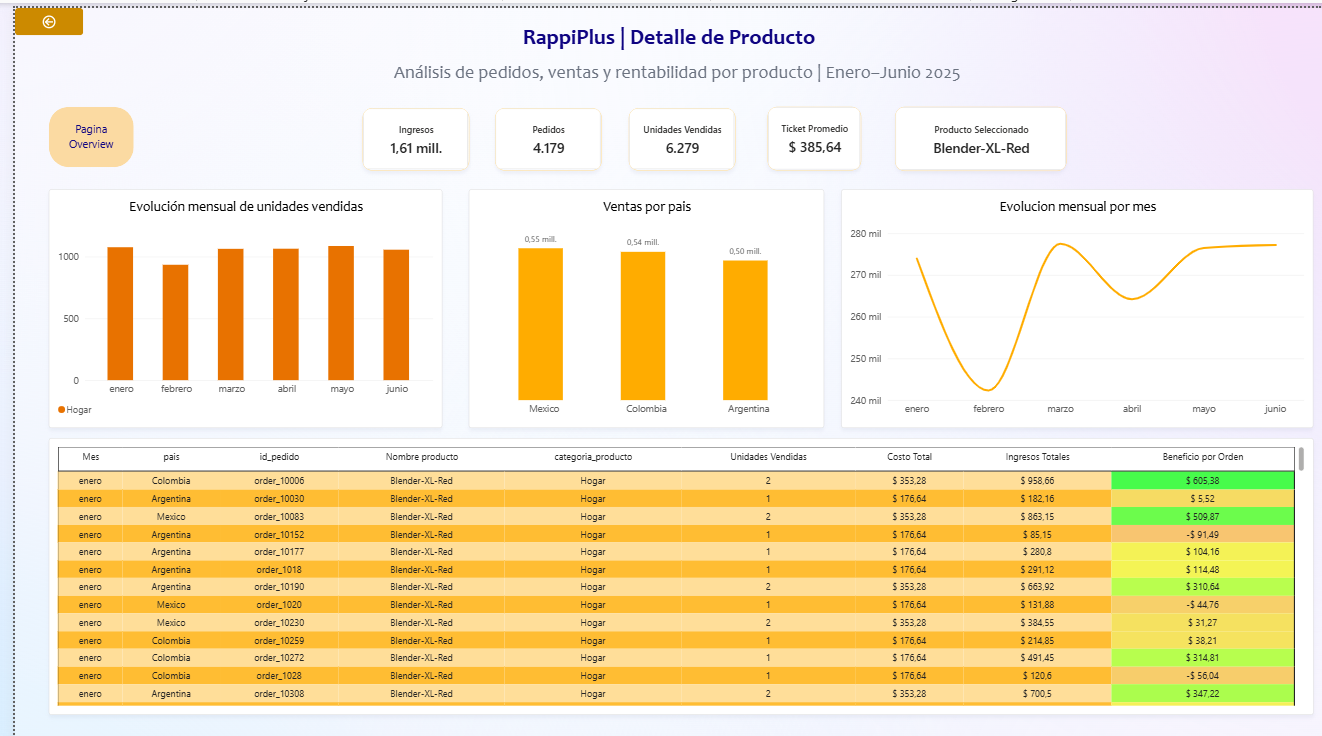

The dashboard page shown, as its layout file describes it:
{"tool":"powerbi","page":{"name":"Producto","canvas":[1920,1080],"ordinal":2},"visuals":[{"type":"textbox","box":[731.2,21.4,455.4,55.6],"z":0},{"type":"textbox","box":[555.9,77,947.2,53.5],"z":1000},{"type":"actionButton","box":[0,0,100,40],"z":2000},{"type":"cardVisual","fields":{"Data":["orders_clean.Ingresos Totales"]},"box":[509.9,146.7,156.7,91.9],"z":3000},{"type":"cardVisual","fields":{"Data":["orders_clean.Pedidos totales"]},"box":[704.4,146.7,156.7,91.9],"z":4000},{"type":"cardVisual","fields":{"Data":["orders_clean.Unidades Vendidas"]},"box":[900.6,146.7,156.7,91.9],"z":5000},{"type":"cardVisual","fields":{"Data":["orders_clean.Ticket Promedio"]},"box":[1104.2,144.9,137.6,93.5],"z":6000},{"type":"clusteredColumnChart","title":"Evolución mensual de unidades vendidas","fields":{"Category":["DimFecha.Date.Variación.Jerarquía de fechas.Mes"],"Series":["orders_clean.categoria_producto"],"Y":["orders_clean.Unidades Vendidas"]},"box":[49.2,265.1,577.3,350.6],"z":7000},{"type":"tableEx","fields":{"Values":["DimFecha.Date.Variación.Jerarquía de fechas.Mes","orders_clean.pais","orders_clean.id_pedido","orders_clean.nombre_producto","orders_clean.categoria_producto","orders_clean.Unidades Vendidas","orders_clean.Costo Total","orders_clean.Ingresos Totales","orders_clean.Beneficio por Orden"]},"box":[49.2,630.7,1855.9,406.2],"z":8000},{"type":"cardVisual","fields":{"Data":["orders_clean.Producto Seleccionado"]},"box":[1291.3,144.9,252.3,94.1],"z":9000},{"type":"lineChart","title":"Evolucion mensual por mes","fields":{"Category":["DimFecha.Date.Variación.Jerarquía de fechas.Mes"],"Y":["orders_clean.Ingresos Totales"]},"box":[1212.3,265.1,692.7,350.6],"z":10000},{"type":"clusteredColumnChart","title":"Ventas por pais","fields":{"Category":["orders_clean.pais"],"Y":["orders_clean.Ingresos Totales"]},"box":[664.9,265.1,521.7,350.6],"z":11000},{"type":"actionButton","box":[49.5,144.9,124.9,88.7],"z":11005}]}

Visuals, with their boxes in screenshot pixels (x1, y1, x2, y2), scaled from the page's 1920x1080 canvas onto the 1322x736 screenshot:
textbox: l=503, t=15, r=817, b=52
textbox: l=383, t=52, r=1035, b=89
actionButton: l=0, t=0, r=69, b=27
cardVisual - orders_clean.Ingresos Totales: l=351, t=100, r=459, b=163
cardVisual - orders_clean.Pedidos totales: l=485, t=100, r=593, b=163
cardVisual - orders_clean.Unidades Vendidas: l=620, t=100, r=728, b=163
cardVisual - orders_clean.Ticket Promedio: l=760, t=99, r=855, b=162
"Evolución mensual de unidades vendidas" clusteredColumnChart: l=34, t=181, r=431, b=420
tableEx - DimFecha.Date.Variación.Jerarquía de fechas.Mes x orders_clean.pais: l=34, t=430, r=1312, b=707
cardVisual - orders_clean.Producto Seleccionado: l=889, t=99, r=1063, b=163
"Evolucion mensual por mes" lineChart: l=835, t=181, r=1312, b=420
"Ventas por pais" clusteredColumnChart: l=458, t=181, r=817, b=420
actionButton: l=34, t=99, r=120, b=159
